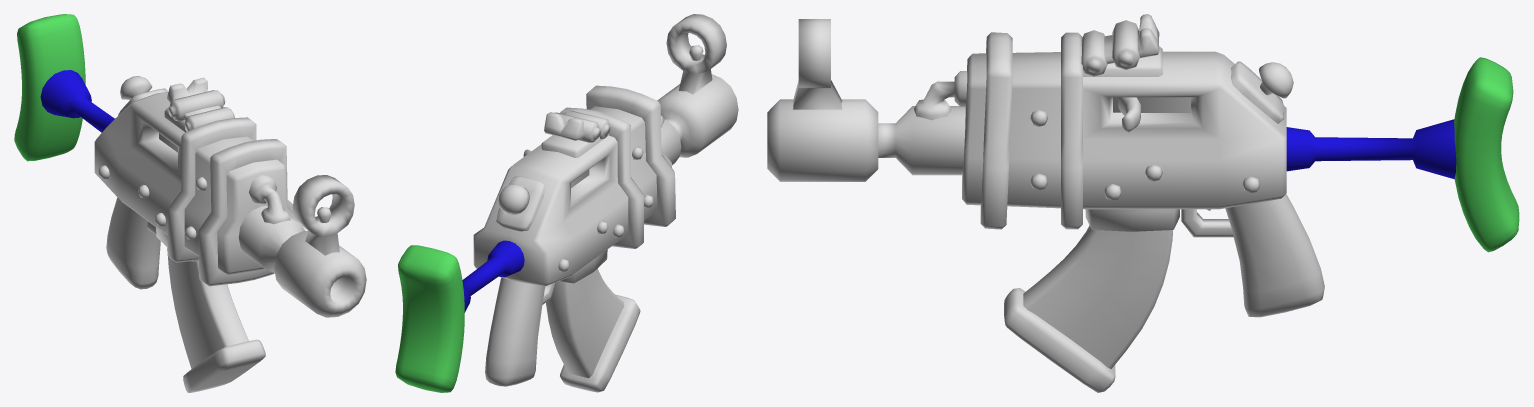
Rendered from Rifle.fbx.
3 views of the same model, side by side, from view 1: azimuth 30°, elevation 25°; view 2: azimuth 150°, elevation 25°; view 3: azimuth 270°, elevation 25° (orthographic). The views are drawn at different scales.
Parts seen in each view (by area): view 1: Rifle_low.000, Rifle_low.002, Rifle_low.015, Clip_full_low, Rifle_low.013, Rifle_low.012, Rifle_low.008, Rifle_low.001, Rifle_low.005, Rifle_low.003, Rifle_low.006, Rifle_low.004 (+1 smaller); view 2: Rifle_low.000, Rifle_low.002, Clip_full_low, Rifle_low.008, Rifle_low.015, Rifle_low.013, Rifle_low.001, Rifle_low.012, Rifle_low.016, Rifle_low.006, Rifle_low.005, Rifle_low.011 (+3 smaller); view 3: Rifle_low.000, Clip_full_low, Rifle_low.002, Rifle_low.015, Rifle_low.008, Rifle_low.013, Rifle_low.012, Rifle_low.001, Rifle_low.005, Rifle_low.014, Gate_low, Rifle_low.003 (+6 smaller).
Boxes of the visible parts, x1,y1,x2,y2 form: Rifle_low.000: [94, 92, 297, 274]; Rifle_low.002: [14, 14, 114, 161]; Rifle_low.015: [238, 206, 366, 317]; Clip_full_low: [167, 248, 265, 392]; Rifle_low.013: [198, 139, 293, 286]; Rifle_low.012: [168, 117, 256, 262]; Rifle_low.008: [106, 197, 160, 289]; Rifle_low.001: [292, 175, 354, 255]; Rifle_low.005: [168, 90, 234, 131]; Rifle_low.003: [249, 175, 290, 224]; Rifle_low.006: [167, 77, 220, 120]; Rifle_low.004: [98, 165, 207, 239]; Rifle_low.000: [473, 106, 671, 286]; Rifle_low.002: [395, 240, 524, 392]; Clip_full_low: [546, 268, 640, 392]; Rifle_low.008: [485, 277, 545, 386]; Rifle_low.015: [657, 74, 738, 165]; Rifle_low.013: [586, 85, 675, 226]; Rifle_low.001: [666, 14, 726, 94]; Rifle_low.012: [560, 107, 643, 248]; Rifle_low.016: [496, 176, 545, 231]; Rifle_low.006: [544, 112, 585, 140]; Rifle_low.005: [554, 110, 610, 142]; Rifle_low.011: [541, 134, 608, 157]; Rifle_low.000: [962, 51, 1286, 209]; Clip_full_low: [1004, 225, 1172, 392]; Rifle_low.002: [1286, 57, 1519, 252]; Rifle_low.015: [767, 99, 965, 181]; Rifle_low.008: [1225, 194, 1324, 317]; Rifle_low.013: [980, 32, 1012, 229]; Rifle_low.012: [1061, 32, 1082, 229]; Rifle_low.001: [793, 19, 842, 109]; Rifle_low.005: [1081, 20, 1139, 76]; Rifle_low.014: [1085, 209, 1179, 231]; Gate_low: [1113, 97, 1190, 132]; Rifle_low.003: [914, 71, 967, 120].
Size of the model in its own units: 14.04 by 40.32 by 76.3.
